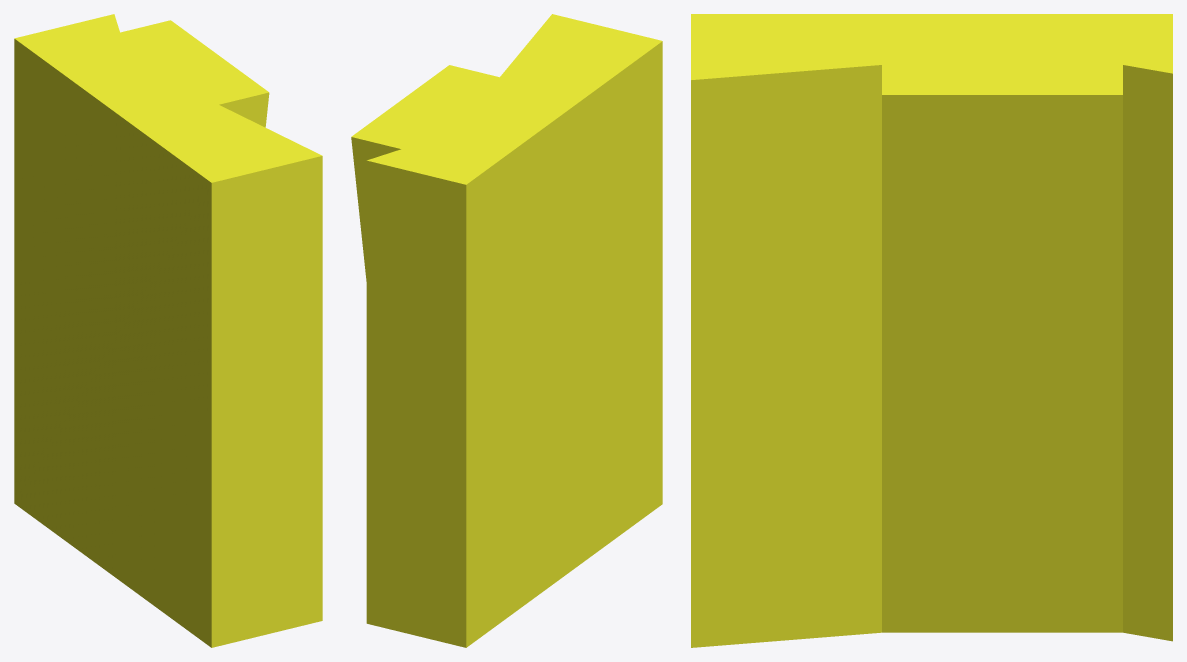
Rendered from x_skala_crash_55_mini_column1_1_mirror.fbx.
3 renders of one model, left to right at view 1: azimuth 30°, elevation 25°; view 2: azimuth 150°, elevation 25°; view 3: azimuth 270°, elevation 25°, orthographic. The views are drawn at different scales.
Visible parts, largest first — view 1: x_skala_crash_55_mini_column1_1_mirror1; view 2: x_skala_crash_55_mini_column1_1_mirror1; view 3: x_skala_crash_55_mini_column1_1_mirror1.
Boxes of the visible parts, x1,y1,x2,y2 form: x_skala_crash_55_mini_column1_1_mirror1: [14, 14, 322, 647]; x_skala_crash_55_mini_column1_1_mirror1: [351, 14, 662, 647]; x_skala_crash_55_mini_column1_1_mirror1: [691, 14, 1172, 647].
Bounding box in the file's own units: 0.7959 × 2.6 × 2.
